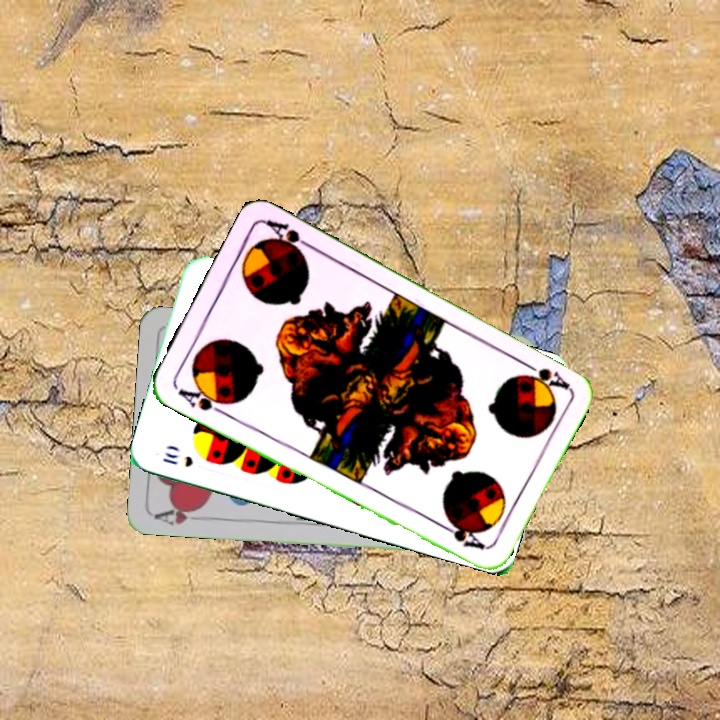HA: (151, 500, 210, 528)
S10: (159, 448, 196, 470)
SA: (173, 382, 233, 418), (517, 356, 572, 393)
